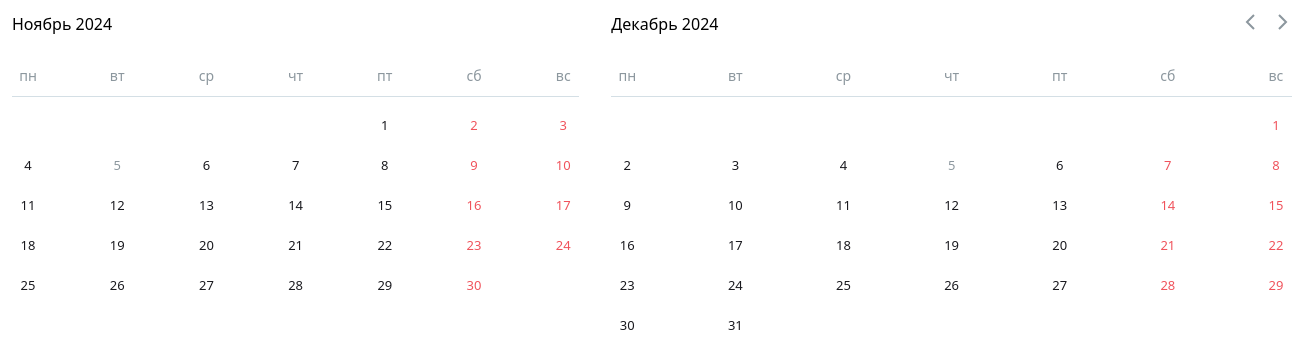
Test case: Компонент CalendarMonthRange › При клике на неактивную ячейку второго месяца появляется попап
The image size is (1304, 347).
Click the element showing "5" below "Декабрь 2024" at (952, 165), box x1=948 y1=156 x2=955 y2=174
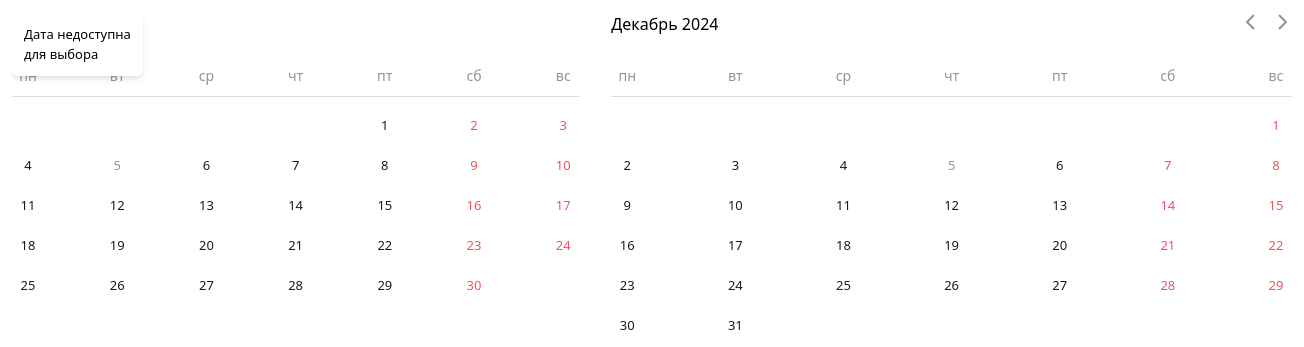
expect the text "Дата недоступна для выбора" is shown: met, box x1=24 y1=25 x2=131 y2=63
